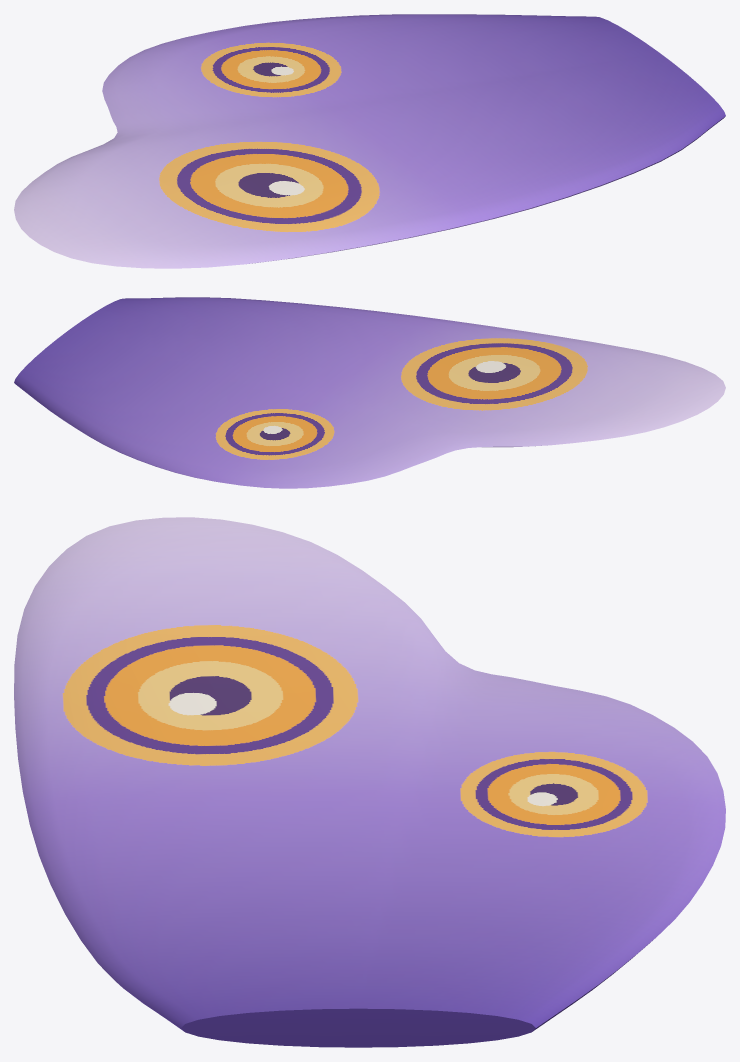
File: lampeater_wing_r.fbx
The picture shows the model from 3 angles, top to bottom: view 1: azimuth 30°, elevation 25°; view 2: azimuth 150°, elevation 25°; view 3: azimuth 270°, elevation 25°; orthographic projection. The views are drawn at different scales.
Parts seen in each view (by area): view 1: lampeater_wing_r; view 2: lampeater_wing_r; view 3: lampeater_wing_r.
Part boxes in pixels (x1,y1,x2,y2): lampeater_wing_r: [14, 14, 725, 268]; lampeater_wing_r: [14, 297, 725, 488]; lampeater_wing_r: [14, 517, 725, 1047].
Bounding box in the file's own units: 1800 × 150 × 1200.
Materials: 1 (1 with a texture image).
